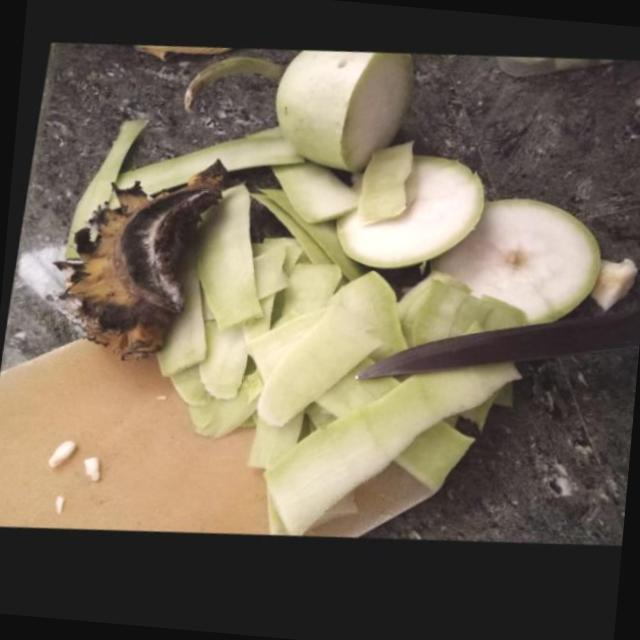vo_rau_cu: (261, 371, 517, 541), (253, 277, 398, 432), (424, 206, 595, 334), (268, 54, 407, 180), (331, 161, 480, 276), (238, 241, 338, 384), (109, 130, 298, 198), (245, 192, 376, 287), (58, 121, 142, 262), (191, 187, 259, 336), (303, 363, 396, 434), (391, 428, 472, 498), (265, 167, 353, 228), (153, 272, 203, 379), (351, 146, 408, 227), (194, 325, 246, 405)
